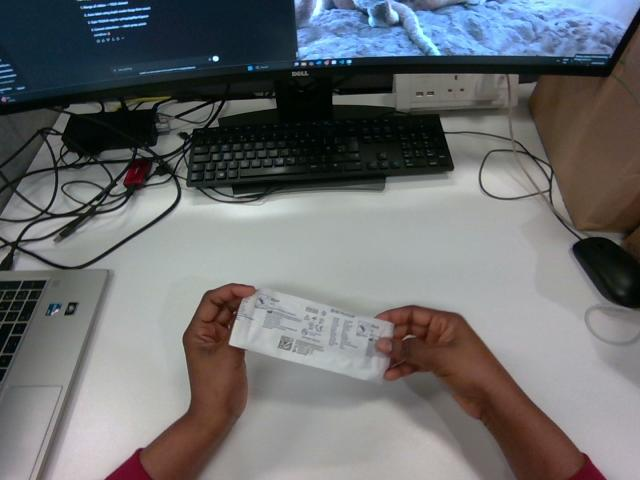syringe: (230, 289, 393, 382)
